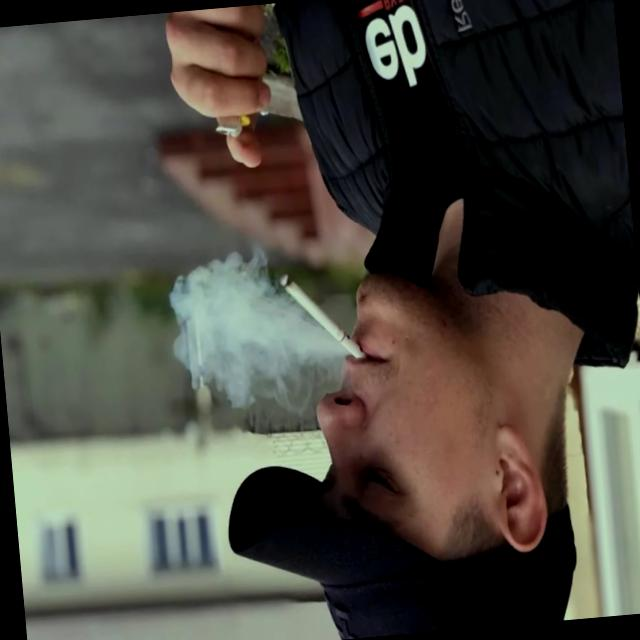cigarette: (276, 264, 366, 368)
